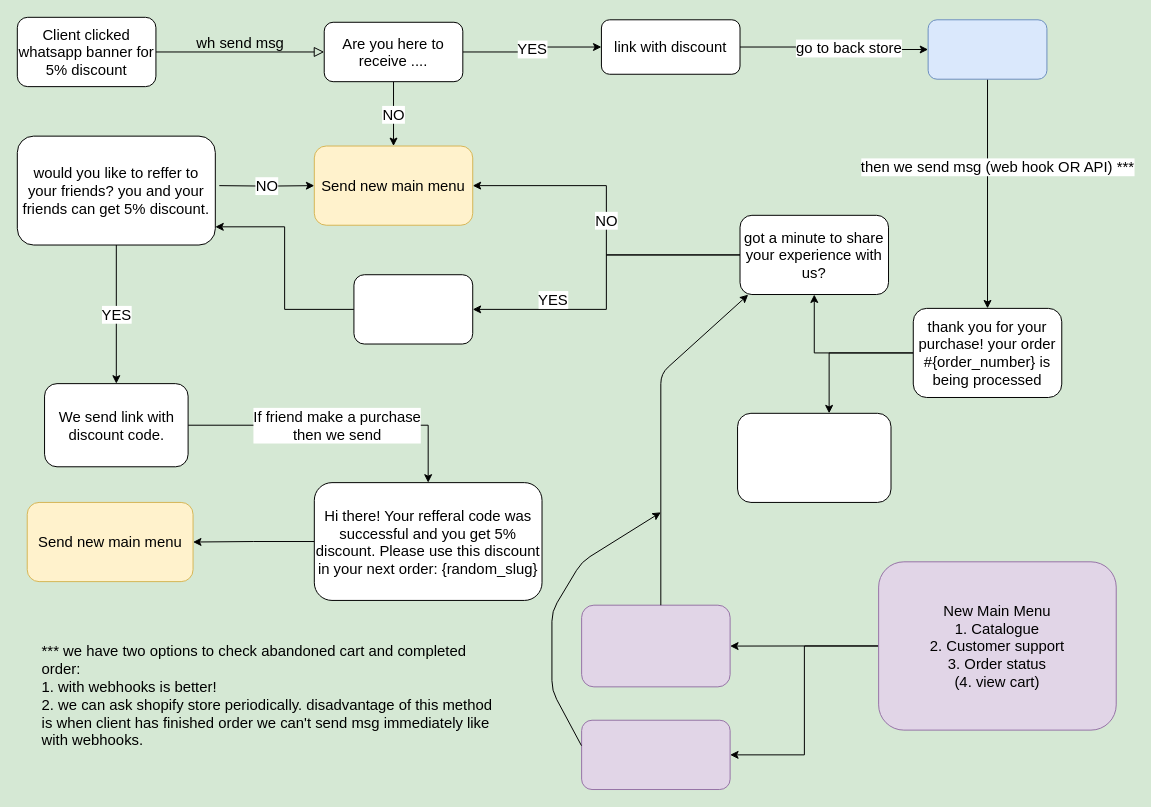
Some shapes in this 1151 by 807 pixel diagram are drawn without their labels. The shapes that lost their labels are listed below. From the top down, each one's centre as x and y in pixels, then its label:
At (x=987, y=49): "client made a purchase".
At (x=413, y=309): "Type review".
At (x=814, y=457): "you can check: 1. order status 2. back to main menu".
At (x=655, y=645): "after chatting with support".
At (x=655, y=754): "after checking order status".
